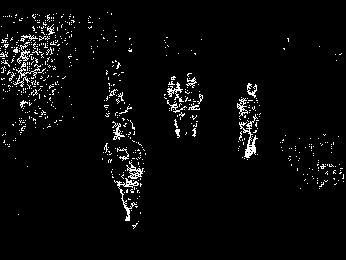person: (99, 121, 148, 229), (236, 82, 261, 160), (182, 71, 203, 138), (164, 74, 184, 139)
